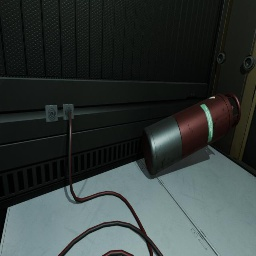NitrogenTank ,: (142, 93, 241, 175)
